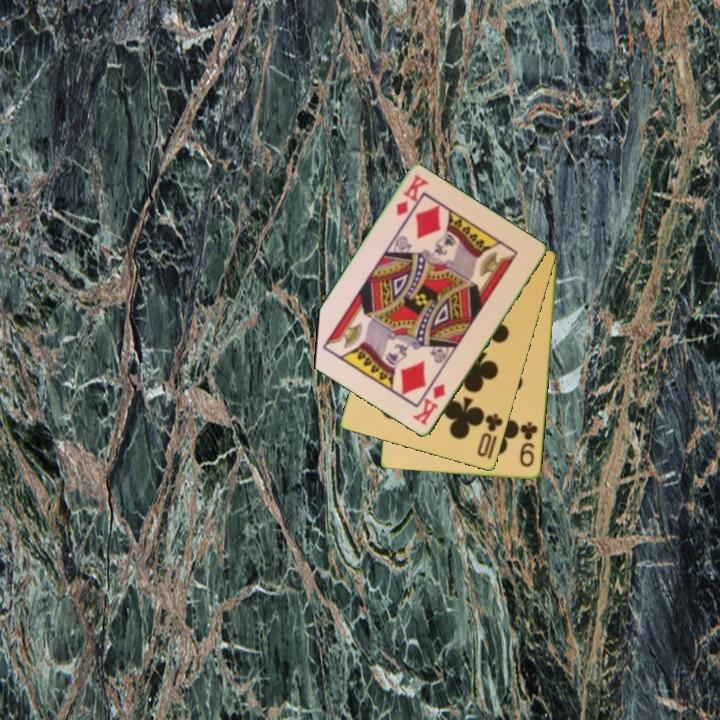10c: (474, 410, 506, 460)
9c: (516, 418, 541, 470)
Kd: (392, 171, 431, 219), (410, 380, 448, 428)
